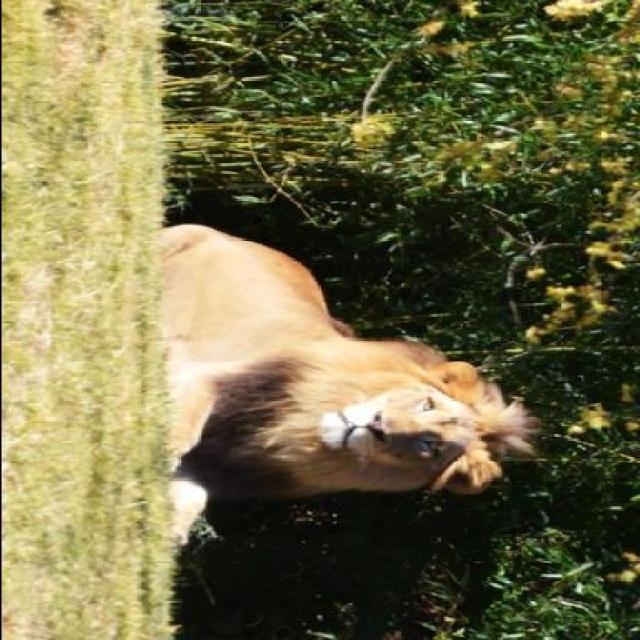Lion: (150, 217, 558, 555)
